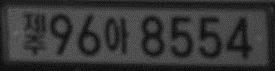4: (224, 15, 254, 60)
5: (197, 15, 223, 57), (169, 14, 193, 58)
6: (76, 11, 103, 56)
8: (140, 14, 166, 57)
9: (49, 12, 74, 56)
아: (103, 14, 130, 56)
제주_V: (21, 10, 48, 55)
